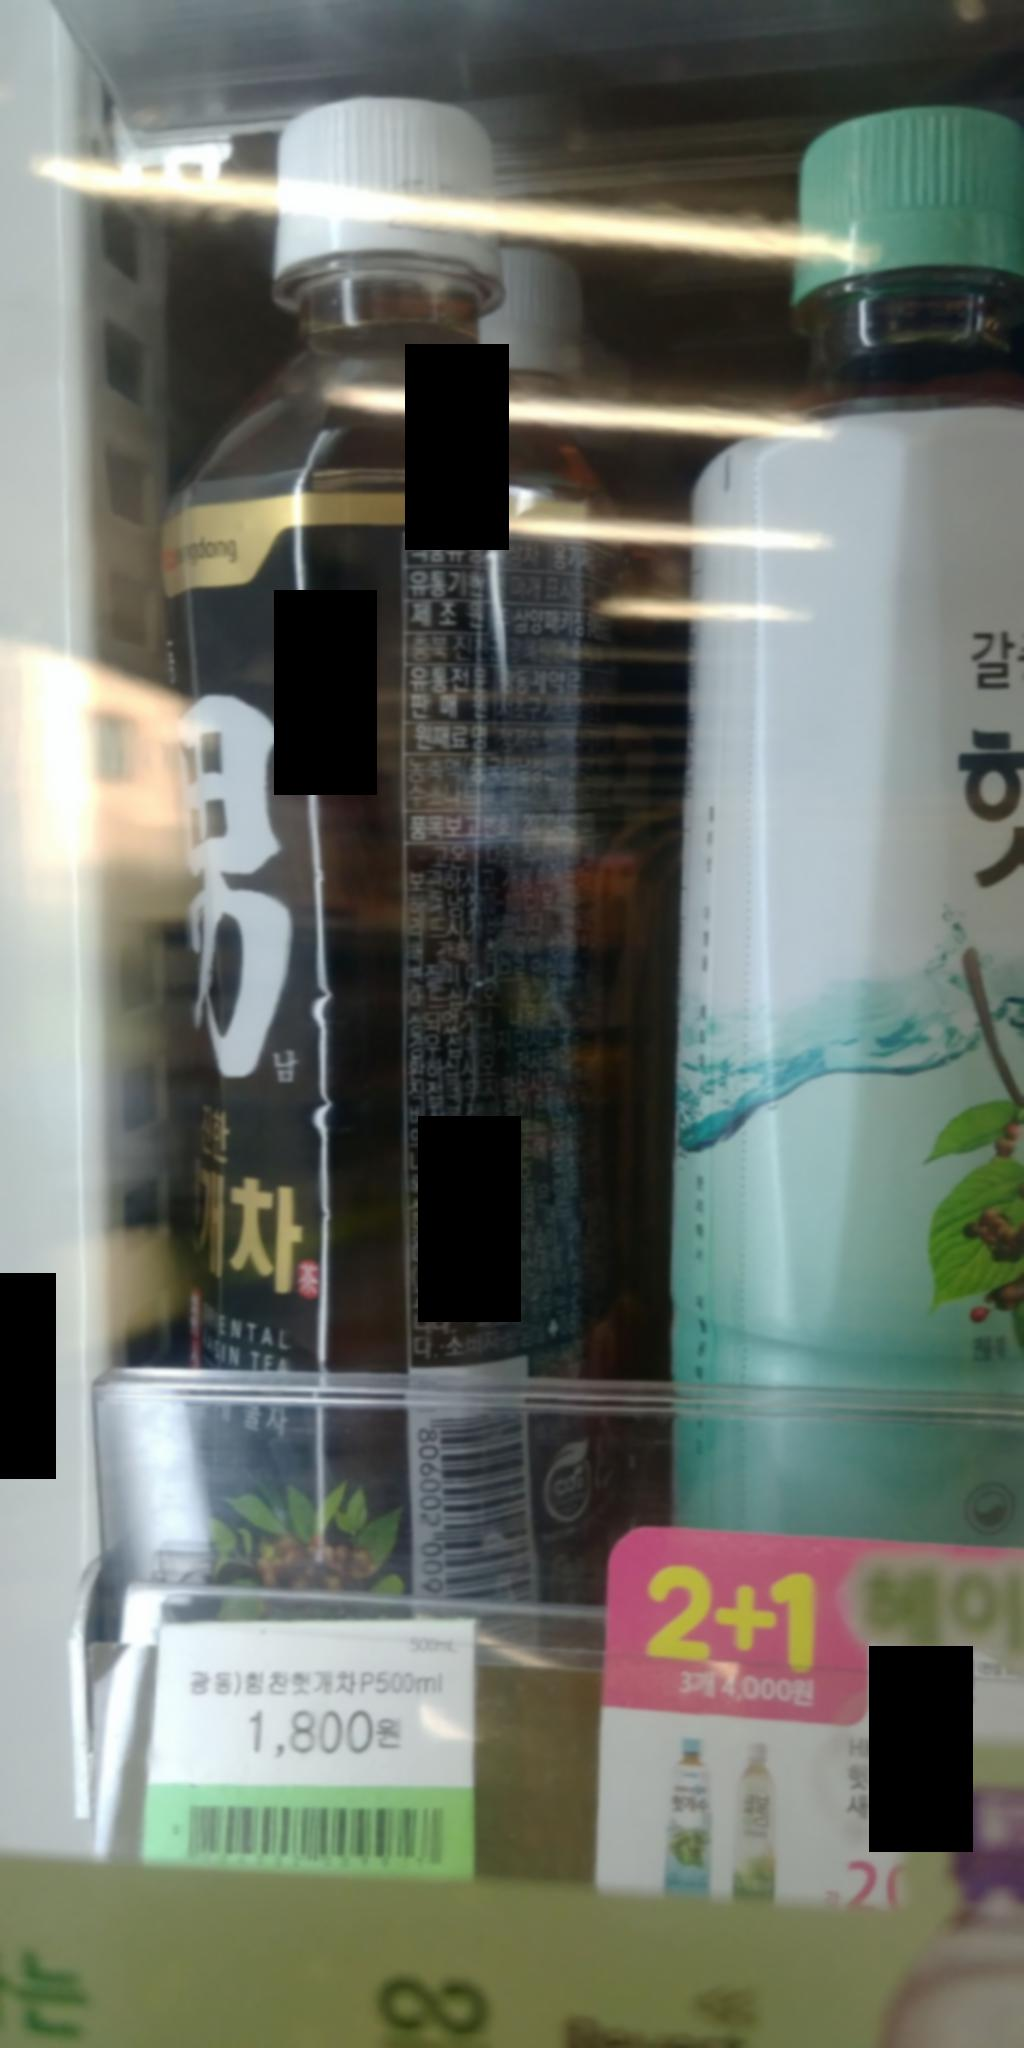heotgaecha: (121, 81, 647, 1626)
